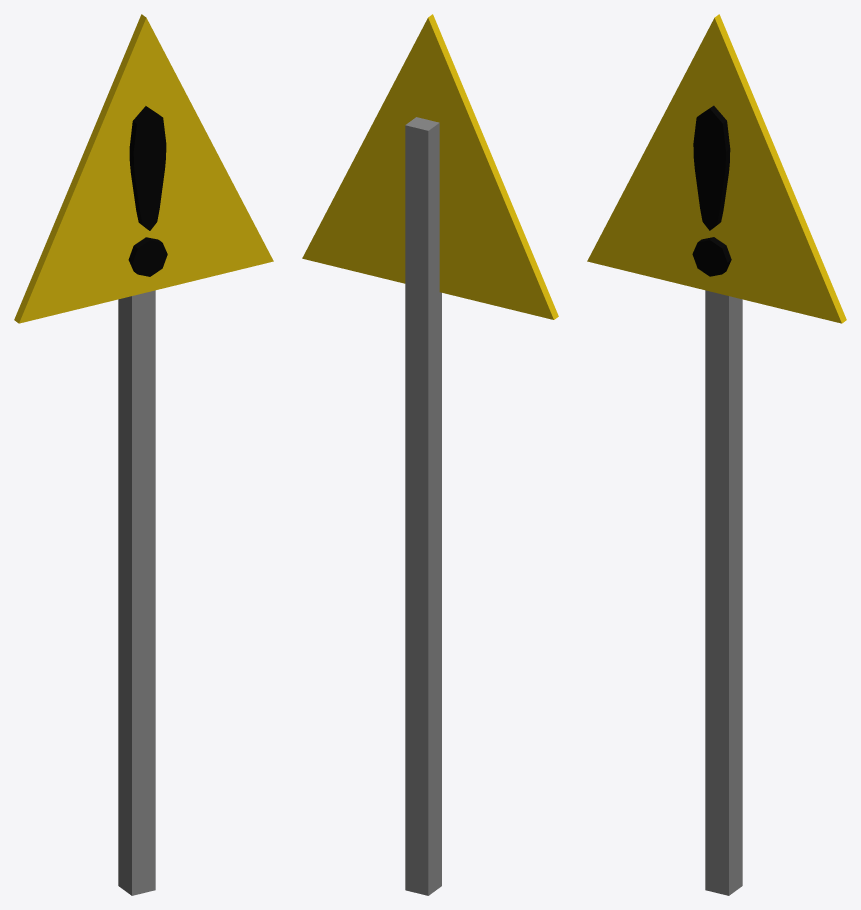
The model's file is panneau_warning.fbx.
3 renders of one model, left to right at view 1: azimuth 30°, elevation 25°; view 2: azimuth 150°, elevation 25°; view 3: azimuth 330°, elevation 25°, orthographic.
Parts seen in each view (by area): view 1: Panneau_1; view 2: Panneau_1; view 3: Panneau_1.
Boxes of the visible parts, <box> form: Panneau_1: <box>14,14,273,895</box>; Panneau_1: <box>302,14,558,895</box>; Panneau_1: <box>587,14,846,895</box>.
Bounding box in the file's own units: 119 × 390 × 16.5.
